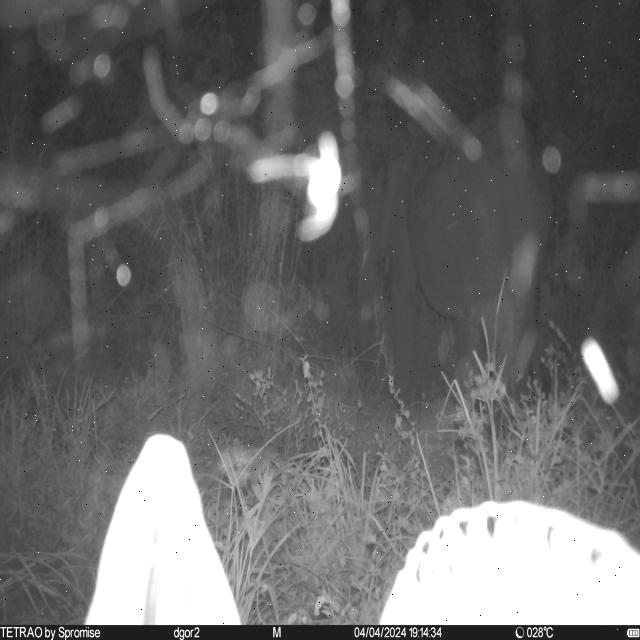elephant: (357, 104, 556, 415)
tusk: (361, 250, 374, 276), (382, 256, 393, 282)
